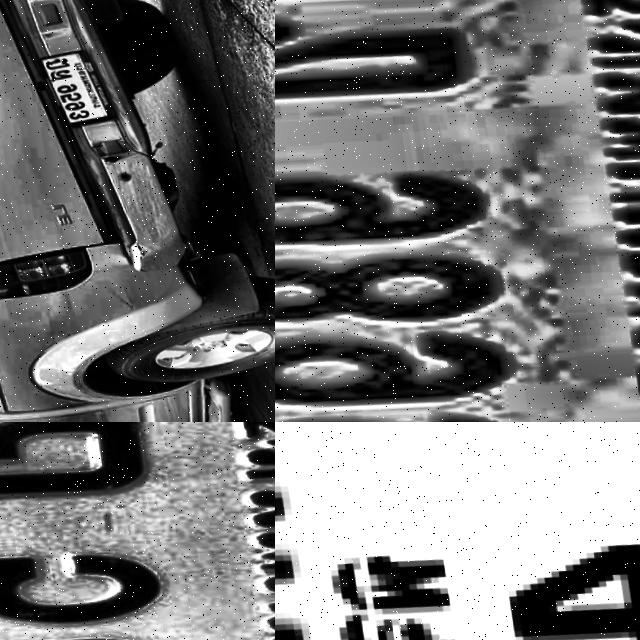license-plate: (275, 0, 640, 422), (275, 422, 640, 640), (0, 422, 275, 640), (30, 36, 123, 130)
